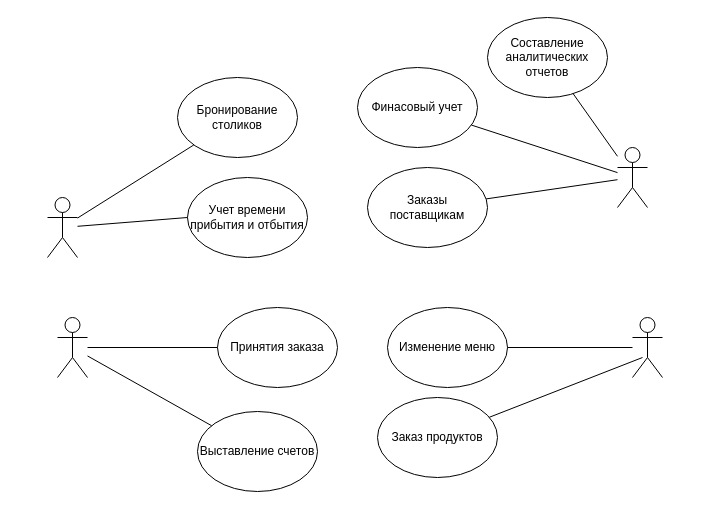
Some shapes in this 706 by 509 pixel diagram are drawn without their labels. The shapes that lost their labels are listed below. From the top down, each one's centre as x and y in pixels, then its label:
point 632,177: Директор ресторана
point 62,227: Администратор ресторана
point 72,347: Официант
point 647,347: Шеф повар
